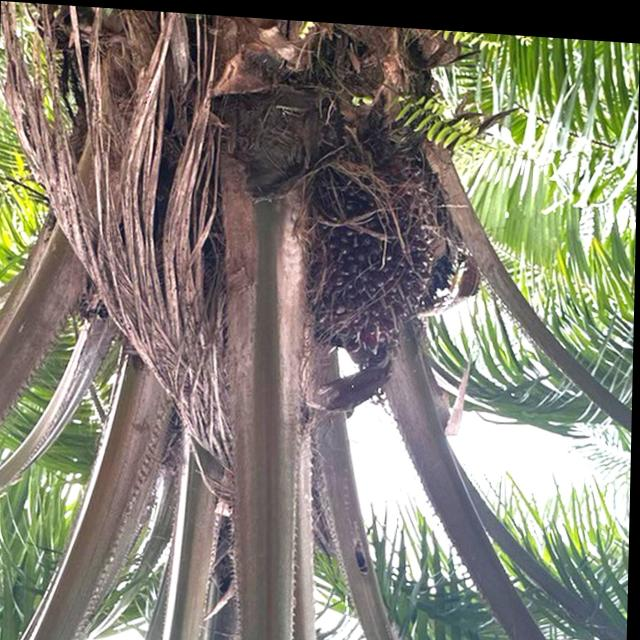ripe: (295, 157, 465, 372)
